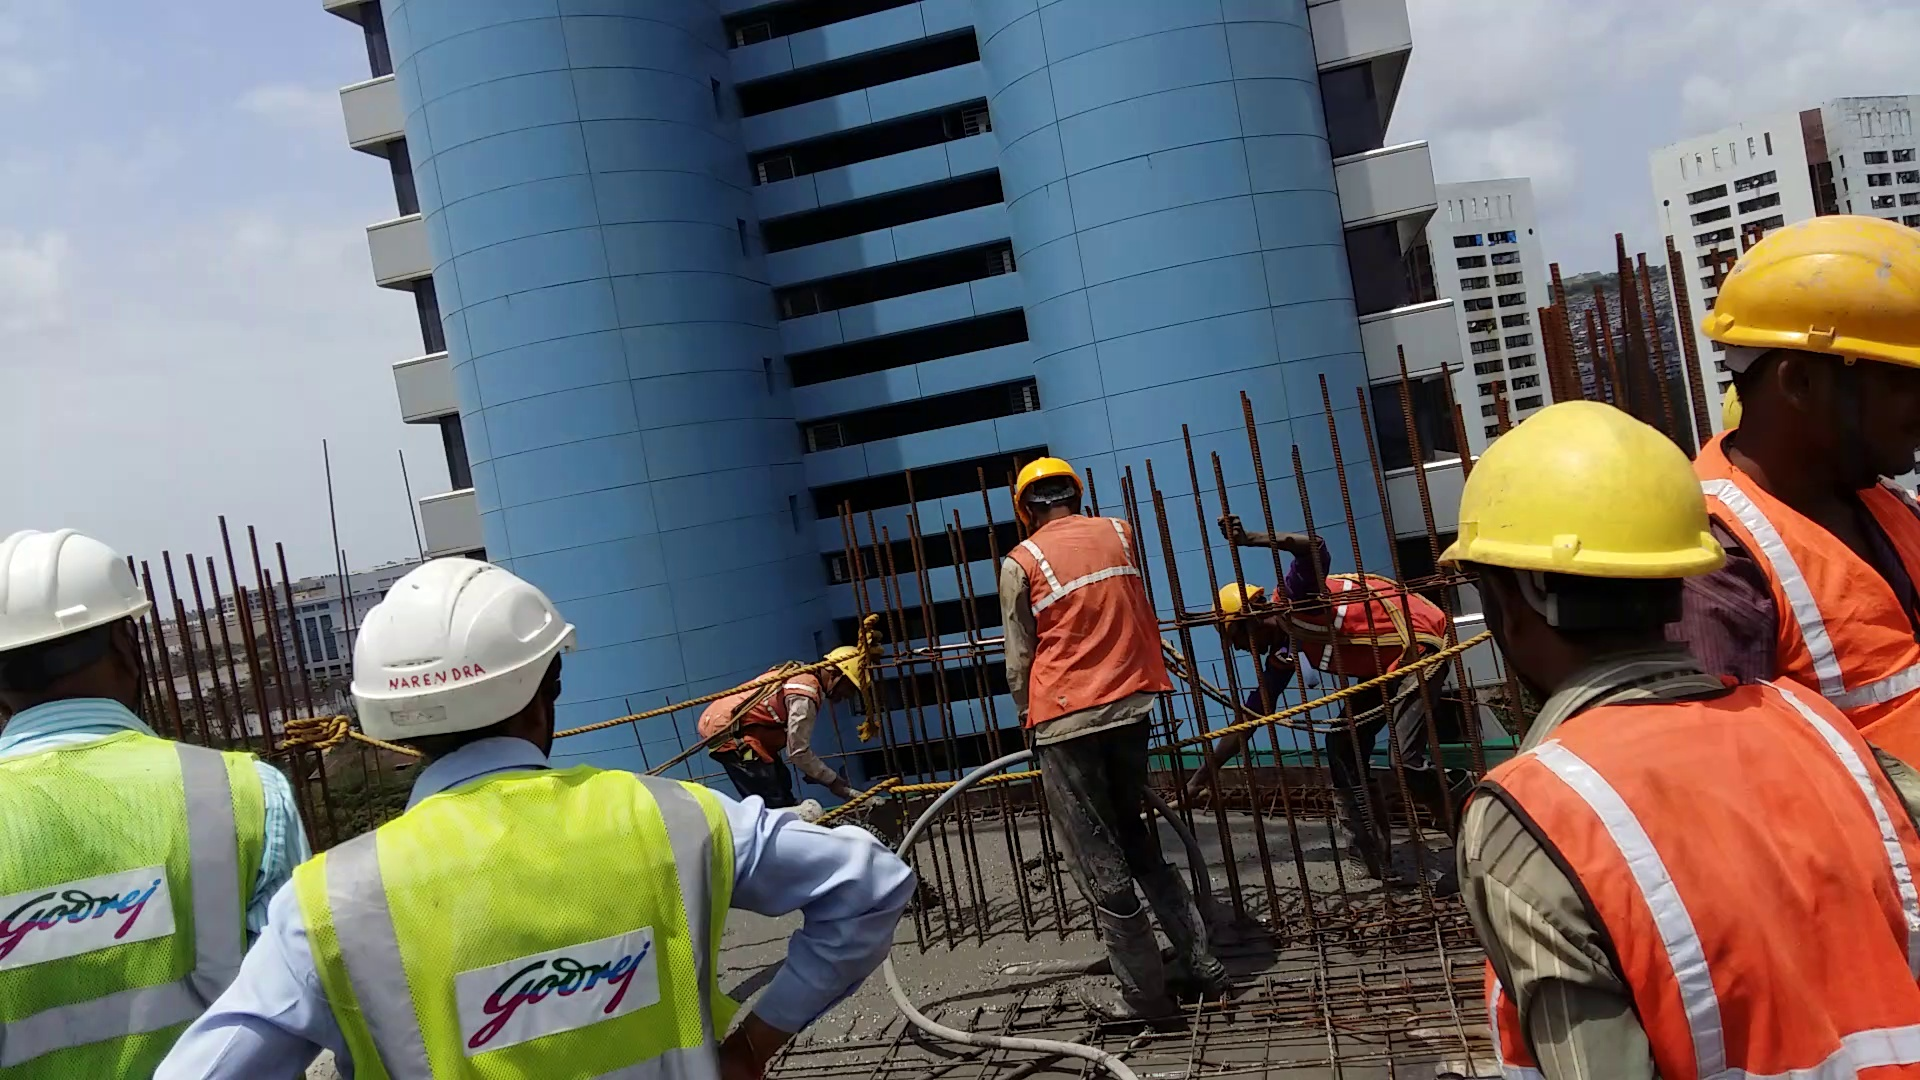SAFE: (1447, 388, 1767, 1080), (314, 554, 713, 1080), (3, 527, 256, 1065), (1770, 212, 1920, 688), (996, 454, 1146, 742), (694, 649, 874, 770)
